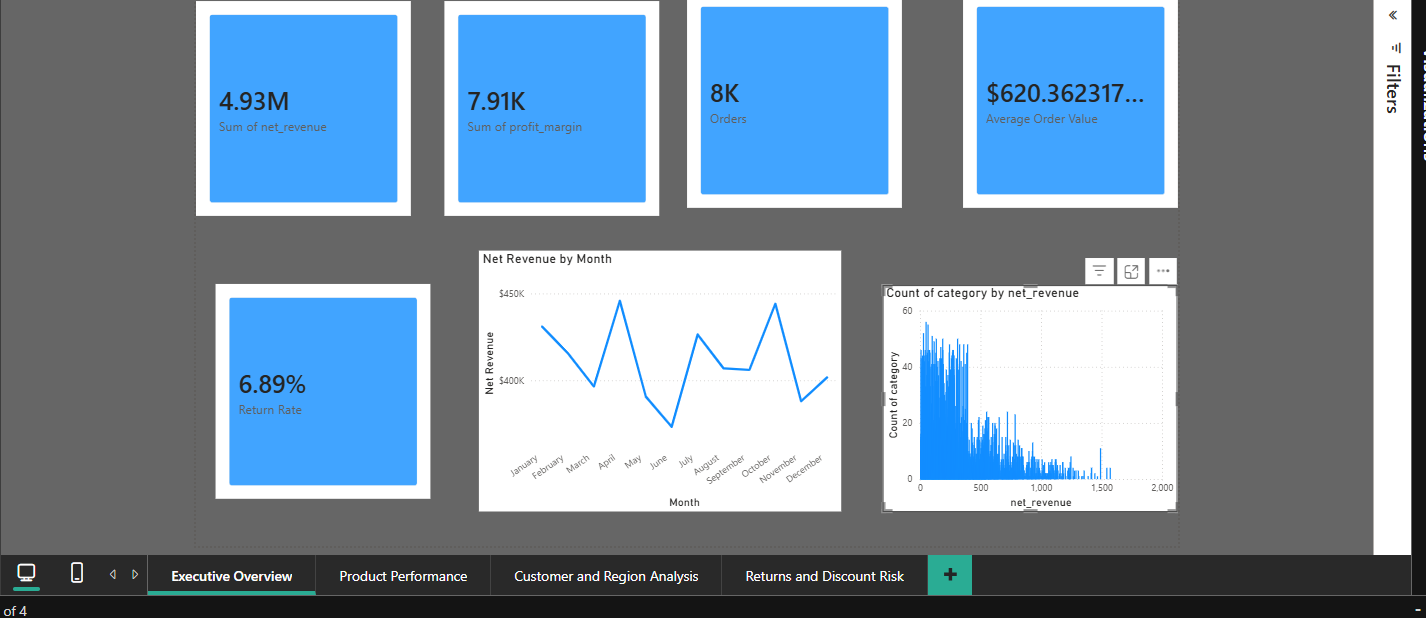

Layout of this report page (visuals, bound fields, positions):
{"tool":"powerbi","page":{"name":"Executive Overview","canvas":[1280,720],"ordinal":0},"visuals":[{"type":"cardVisual","fields":{"Data":["Sum(sales_dashboard.net_revenue)"]},"box":[0,10.5,280.3,280.3],"z":0},{"type":"cardVisual","fields":{"Data":["Sum(sales_dashboard.profit_margin)"]},"box":[323.7,10.5,280.3,280.3],"z":1000},{"type":"cardVisual","fields":{"Data":["sales_dashboard.Orders"]},"box":[639.9,0,280.3,280.3],"z":2000},{"type":"cardVisual","fields":{"Data":["sales_dashboard.Average Order Value"]},"box":[999.6,0,280.3,280.3],"z":3000},{"type":"cardVisual","fields":{"Data":["sales_dashboard.Return Rate"]},"box":[25.5,379.2,280.3,280.3],"z":4000},{"type":"lineChart","fields":{"Category":["sales_dashboard.order_month.Variation.Date Hierarchy.Month"],"Y":["sales_dashboard.Net Revenue"]},"box":[368.7,335.7,472.1,340.2],"z":5000},{"type":"lineClusteredColumnComboChart","fields":{"Y":["CountNonNull(sales_dashboard.category)"],"Category":["sales_dashboard.net_revenue"]},"box":[894.7,380.7,385.2,295.2],"z":6000}]}

Visuals, with their boxes on the page's 1280x720 design canvas (x1, y1, x2, y2). These are canvas units, not pixel positions in the 1426x618 screenshot, which may show the page scaled, cropped or inside an application window:
cardVisual - Sum(sales_dashboard.net_revenue): crop(0, 10, 280, 291)
cardVisual - Sum(sales_dashboard.profit_margin): crop(324, 10, 604, 291)
cardVisual - sales_dashboard.Orders: crop(640, 0, 920, 280)
cardVisual - sales_dashboard.Average Order Value: crop(1000, 0, 1280, 280)
cardVisual - sales_dashboard.Return Rate: crop(26, 379, 306, 660)
lineChart - sales_dashboard.order_month.Variation.Date Hierarchy.Month x sales_dashboard.Net Revenue: crop(369, 336, 841, 676)
lineClusteredColumnComboChart - CountNonNull(sales_dashboard.category) x sales_dashboard.net_revenue: crop(895, 381, 1280, 676)
